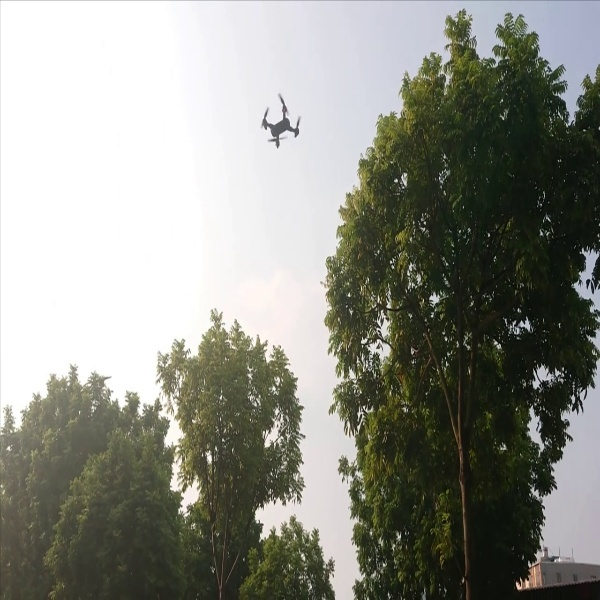drone: (256, 85, 306, 158)
